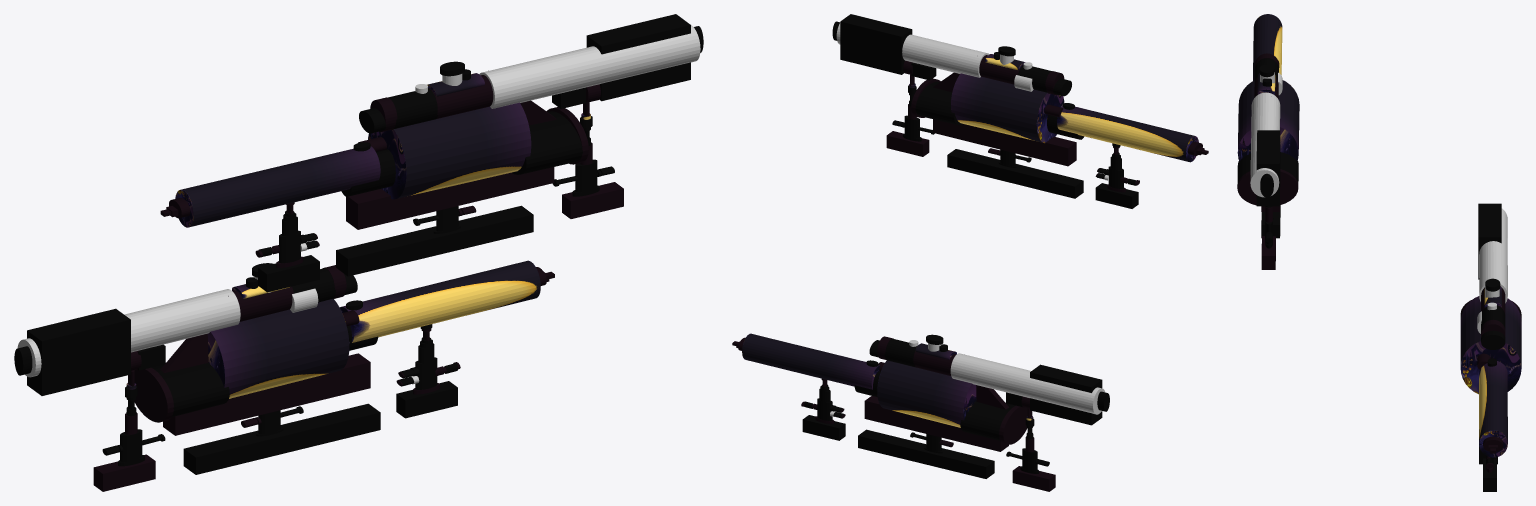
The model's file is ArmaAn.obj.
3 renders of one model, left to right at view 1: azimuth 30°, elevation 25°; view 2: azimuth 150°, elevation 25°; view 3: azimuth 270°, elevation 25°, orthographic. The views are drawn at different scales.
Parts seen in each view (by area): view 1: Cilindro.136, Cilindro.001, Cilindro.124, Cilindro.030, Cilindro.137, Cubo.034, Cubo.032_Cubo.009, Cubo.066, Cubo.033, Cubo.065, Cilindro, Cubo.064 (+12 smaller); view 2: Cilindro.136, Cilindro.001, Cilindro.124, Cilindro, Cilindro.030, Cubo.064, Cubo.066, Cubo.032_Cubo.009, Cubo.065, Cilindro.137, Cubo.033, Cubo.034 (+10 smaller); view 3: Cilindro.001, Cilindro.136, Cilindro.030, Cilindro.137, Cilindro, Cubo.064, Cilindro.124, Cubo.034, Cilindro.108, Cilindro.109, Cubo.063, Cilindro.023 (+2 smaller).
Boxes of the visible parts, x1=… form: Cilindro.136: x1=368, y1=102, x2=531, y2=199; Cilindro.001: x1=207, y1=298, x2=349, y2=398; Cilindro.124: x1=175, y1=146, x2=380, y2=227; Cilindro.030: x1=339, y1=260, x2=540, y2=342; Cilindro.137: x1=479, y1=24, x2=700, y2=108; Cubo.034: x1=27, y1=308, x2=130, y2=395; Cubo.032_Cubo.009: x1=183, y1=403, x2=380, y2=474; Cubo.066: x1=336, y1=205, x2=533, y2=276; Cubo.033: x1=163, y1=353, x2=370, y2=435; Cubo.065: x1=346, y1=167, x2=554, y2=229; Cilindro: x1=17, y1=289, x2=240, y2=377; Cubo.064: x1=586, y1=14, x2=690, y2=101; Cilindro.136: x1=951, y1=73, x2=1064, y2=143; Cilindro.001: x1=877, y1=360, x2=976, y2=427; Cilindro.124: x1=1057, y1=106, x2=1198, y2=162; Cilindro: x1=950, y1=353, x2=1104, y2=414; Cilindro.030: x1=742, y1=333, x2=879, y2=389; Cubo.064: x1=840, y1=14, x2=912, y2=74; Cubo.066: x1=947, y1=149, x2=1083, y2=198; Cubo.032_Cubo.009: x1=858, y1=429, x2=994, y2=478; Cubo.065: x1=933, y1=119, x2=1076, y2=166; Cilindro.137: x1=836, y1=19, x2=989, y2=77; Cubo.033: x1=864, y1=396, x2=1008, y2=451; Cubo.034: x1=1030, y1=364, x2=1102, y2=425; Cilindro.001: x1=1460, y1=296, x2=1521, y2=394; Cilindro.136: x1=1237, y1=80, x2=1299, y2=161; Cilindro.030: x1=1479, y1=361, x2=1507, y2=457; Cilindro.137: x1=1250, y1=92, x2=1280, y2=197; Cilindro: x1=1479, y1=208, x2=1507, y2=303; Cubo.064: x1=1256, y1=130, x2=1280, y2=206; Cilindro.124: x1=1253, y1=14, x2=1282, y2=80; Cubo.034: x1=1478, y1=203, x2=1501, y2=279; Cilindro.108: x1=1237, y1=169, x2=1298, y2=206; Cilindro.109: x1=1237, y1=152, x2=1298, y2=185; Cubo.063: x1=1261, y1=236, x2=1275, y2=269; Cilindro.023: x1=1481, y1=330, x2=1505, y2=349.
Size of the model in its own units: 4.96 by 4.24 by 2.95.
